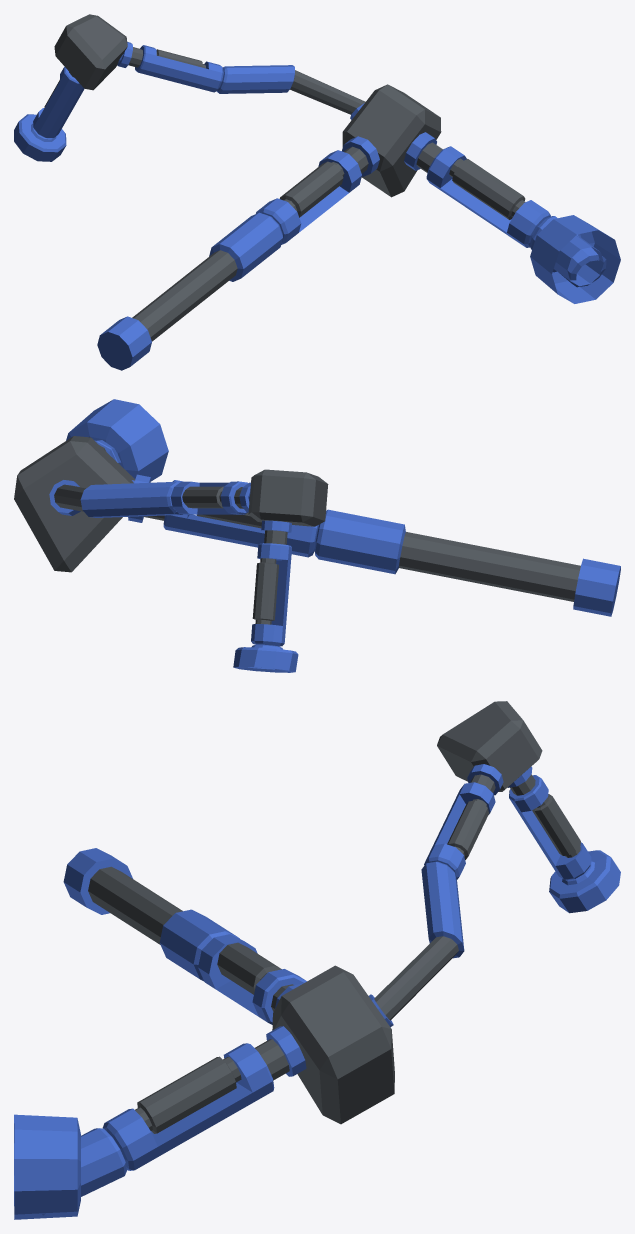
File: Fighter_03_Pipes_04_Blue.fbx
3 views of the same model, one above another, from view 1: azimuth 30°, elevation 25°; view 2: azimuth 150°, elevation 25°; view 3: azimuth 270°, elevation 25° (orthographic). The views are drawn at different scales.
Visible parts, largest first — view 1: Fighter_03_Pipes_04_Blue; view 2: Fighter_03_Pipes_04_Blue; view 3: Fighter_03_Pipes_04_Blue.
Boxes of the visible parts, box(x1,y1,x2,y2) form: Fighter_03_Pipes_04_Blue: box(14, 14, 620, 370); Fighter_03_Pipes_04_Blue: box(14, 399, 620, 672); Fighter_03_Pipes_04_Blue: box(14, 701, 620, 1219).
Size of the model in its own units: 462 by 203 by 377.
1 material, 1 textured.
